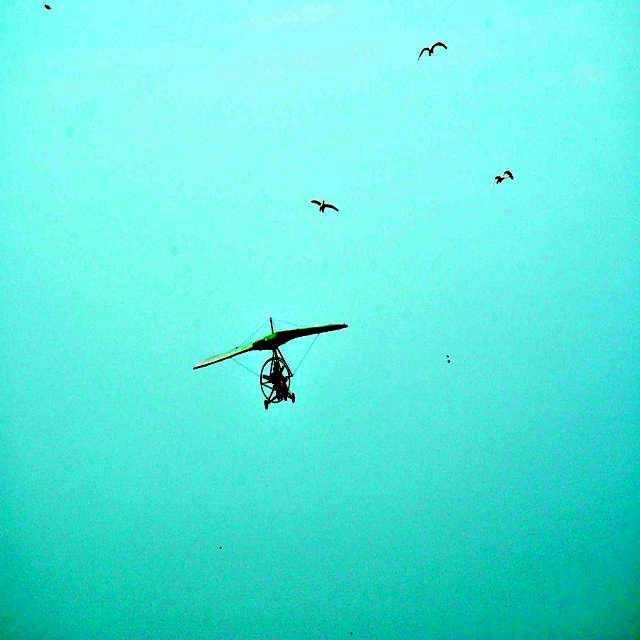bird: (416, 35, 449, 65), (489, 165, 518, 192), (310, 192, 340, 216)
